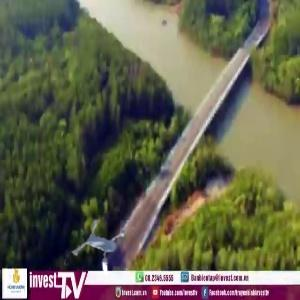drone: (61, 212, 141, 292)
